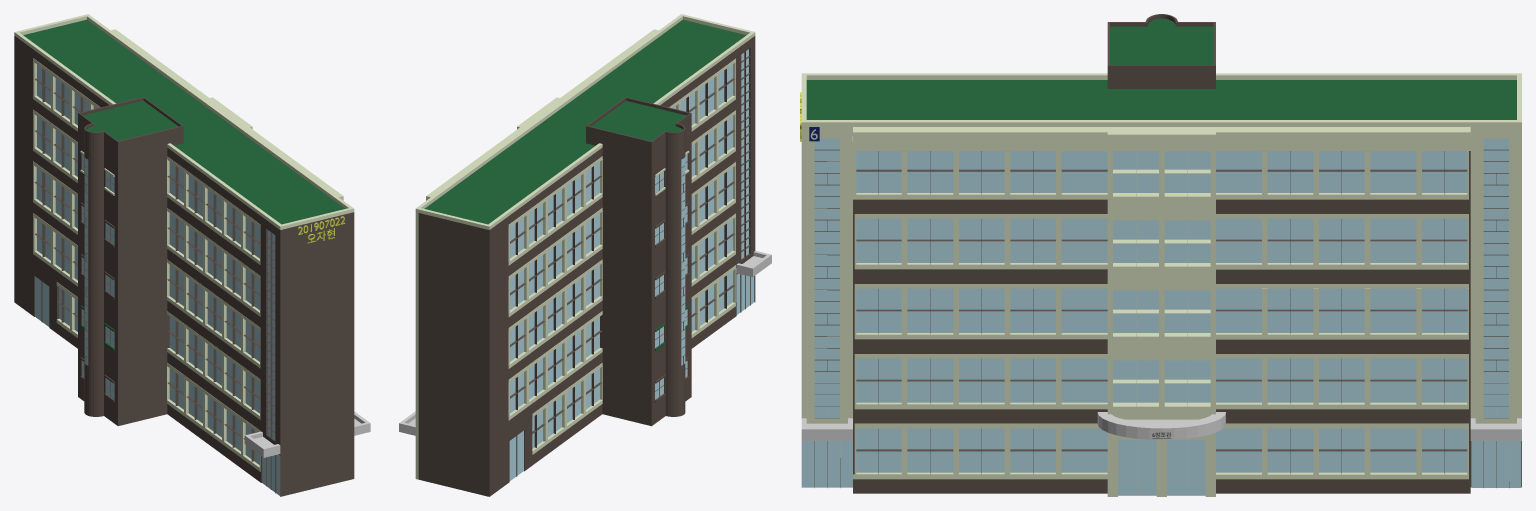
Rendered from 6building_8.glb.
3 renders of one model, left to right at view 1: azimuth 30°, elevation 25°; view 2: azimuth 150°, elevation 25°; view 3: azimuth 270°, elevation 25°, orthographic. The views are drawn at different scales.
Parts seen in each view (by area): view 1: total; view 2: total; view 3: total.
Boxes of the visible parts, x1=… form: total: x1=14, y1=14, x2=370, y2=496; total: x1=399, y1=14, x2=771, y2=496; total: x1=800, y1=14, x2=1521, y2=496.
Size of the model in its own units: 103 by 165 by 281.
